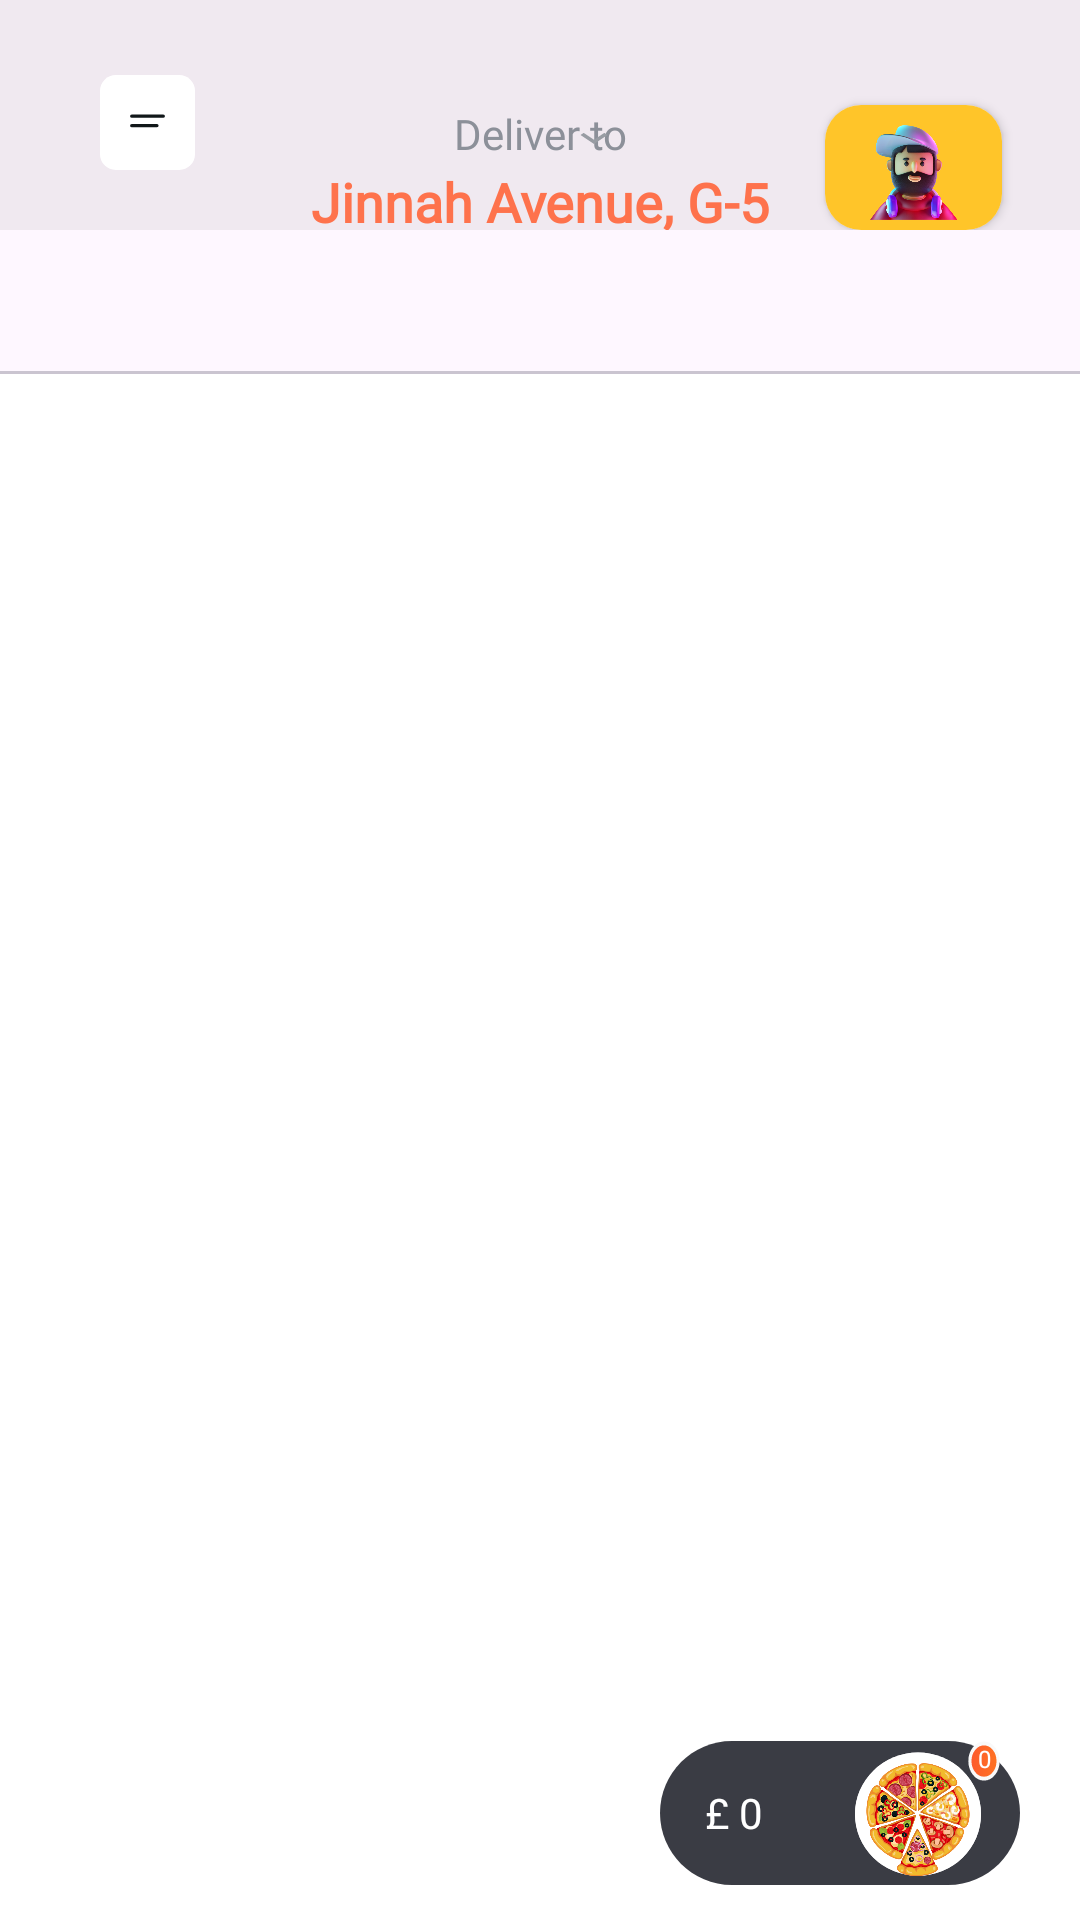

Point at icon controls on the screen. Image size 1080*1920, points as [x,y].
floating pizza: [918,1814]
profile: [913,167]
